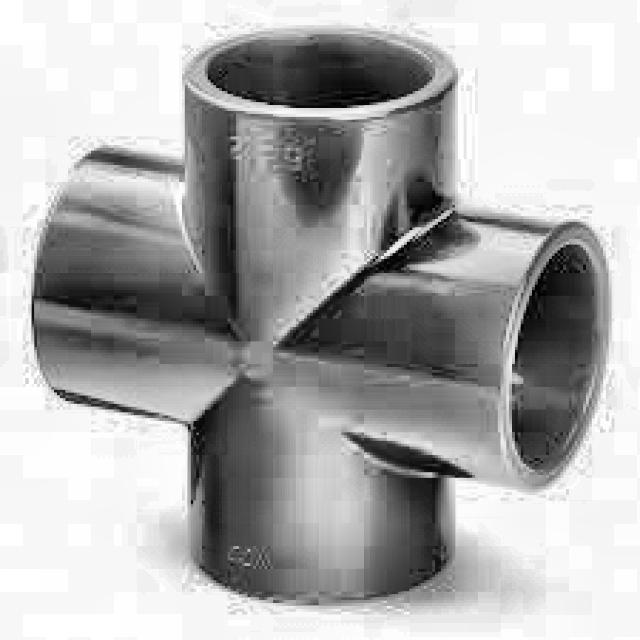EQUALCROSS: (31, 28, 614, 609)
